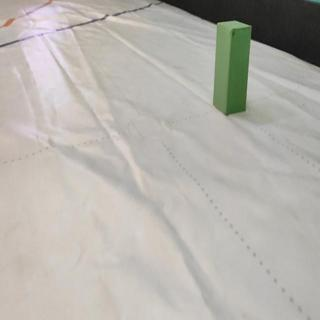greenbox: (211, 19, 252, 118)
